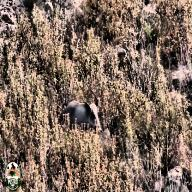boar: (65, 91, 104, 142)
